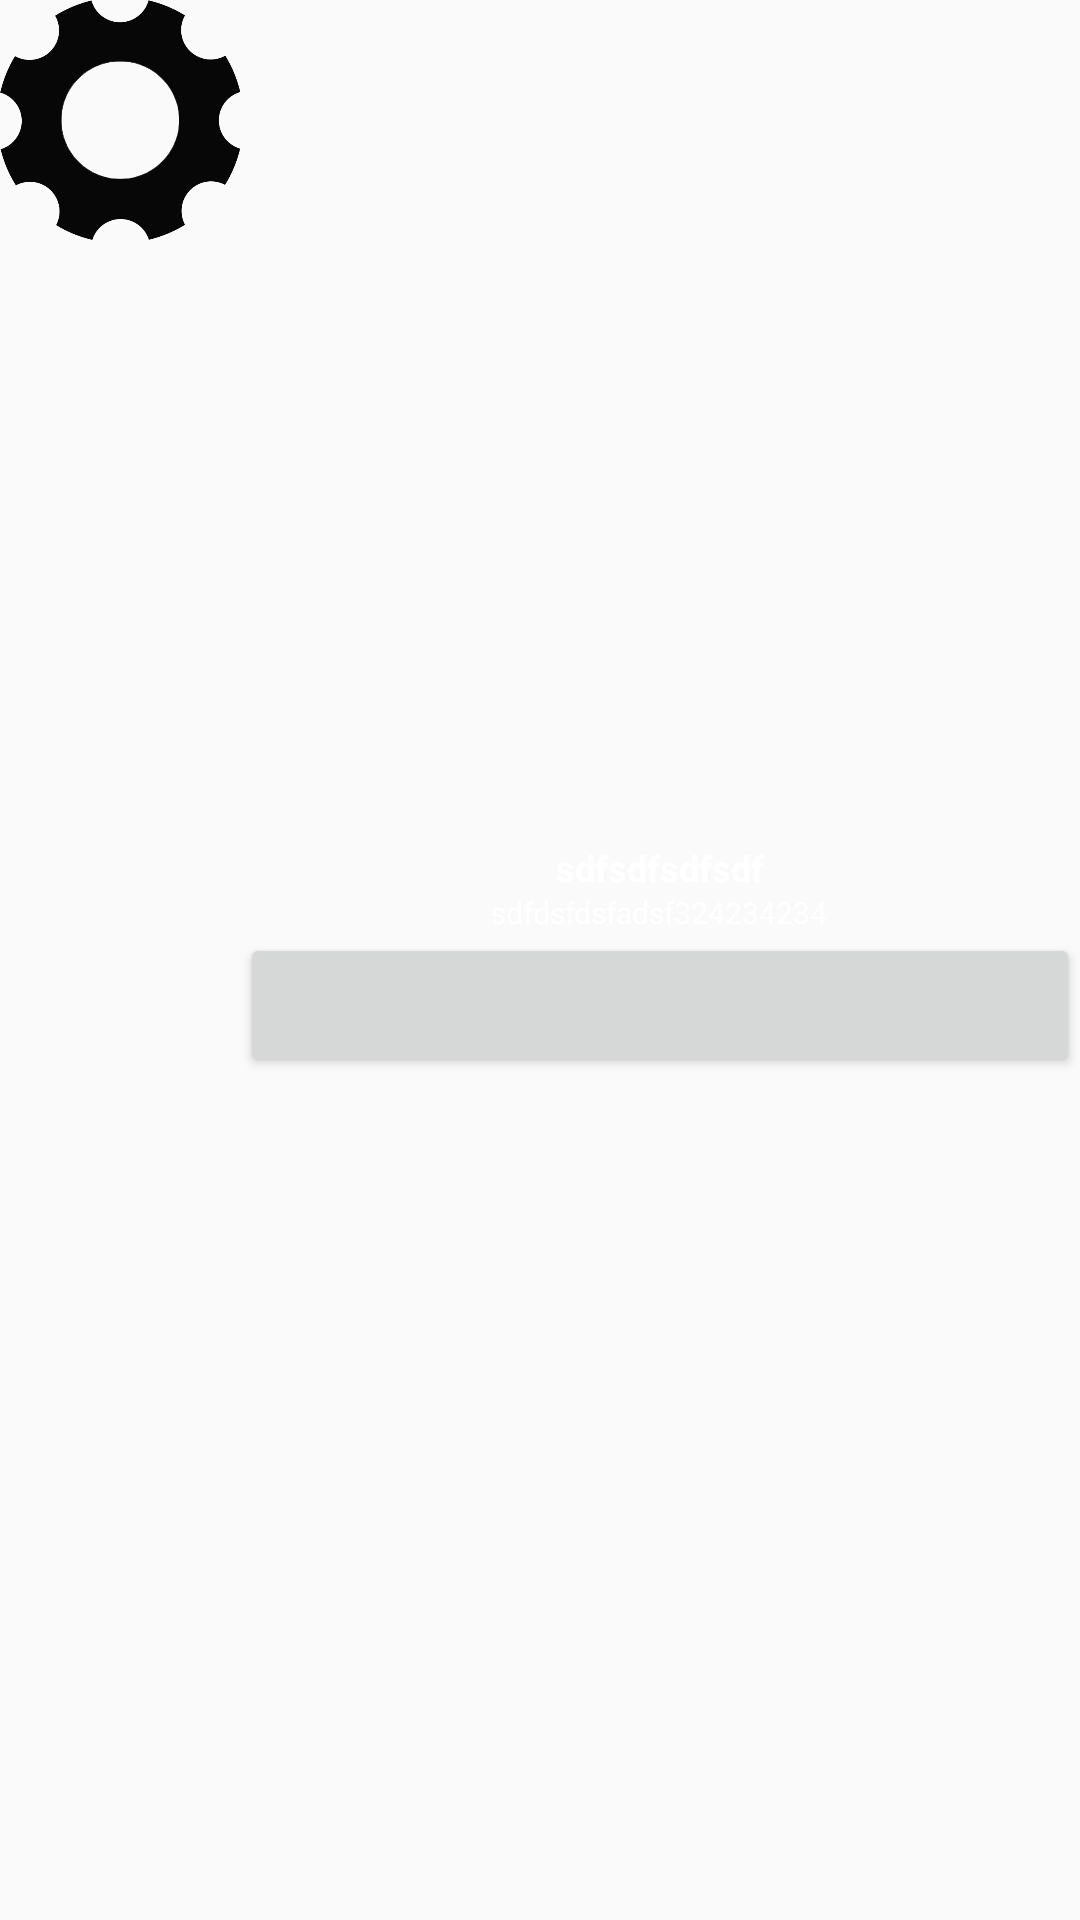

Where to tap for icons on this 1080×1920 app screen, as point (x, y):
settings: point (120, 120)
